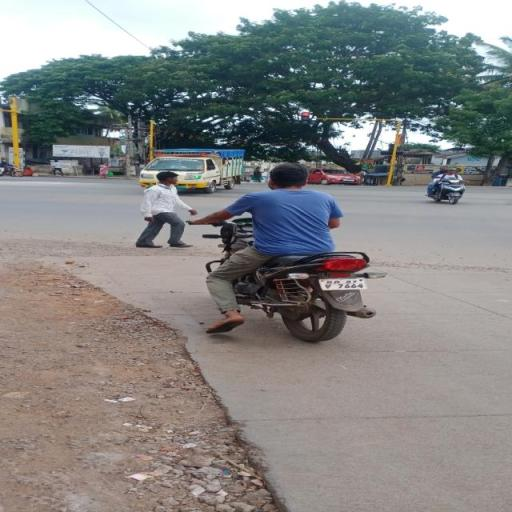bike: (186, 160, 394, 343)
numberplate: (320, 278, 367, 290)
withouthelmet: (272, 164, 309, 186)
